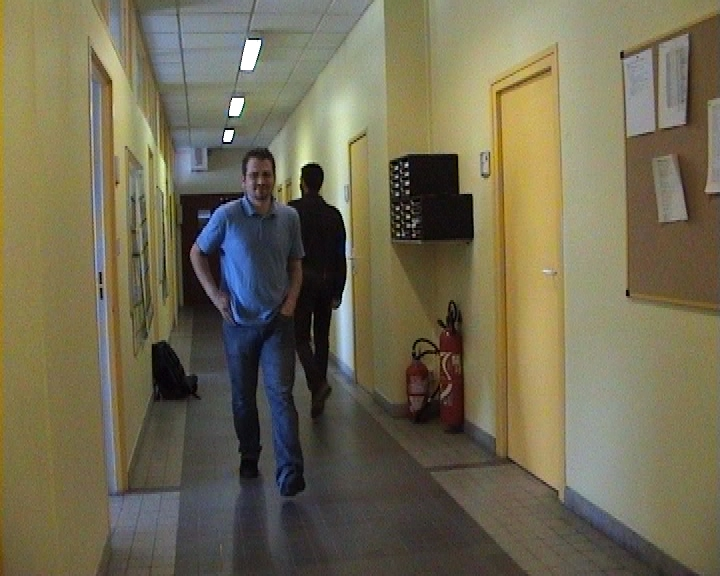leave bag unattended: (133, 321, 330, 498)
